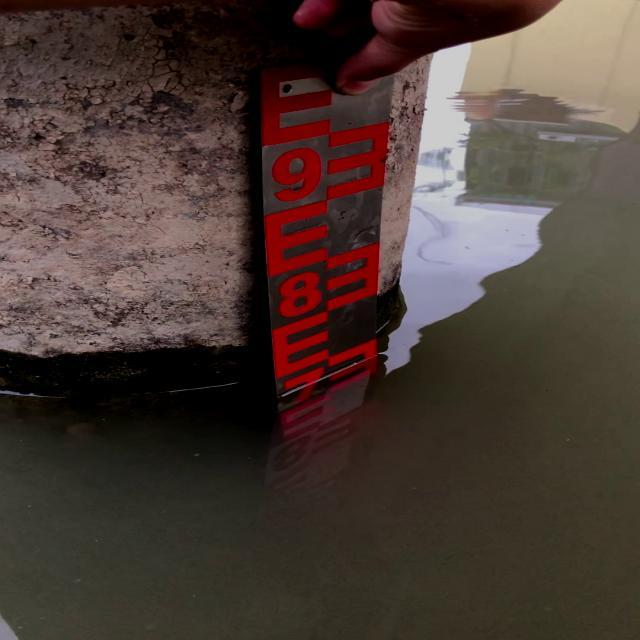ruler: (228, 42, 406, 419)
value: (261, 136, 329, 218), (268, 263, 328, 327)
